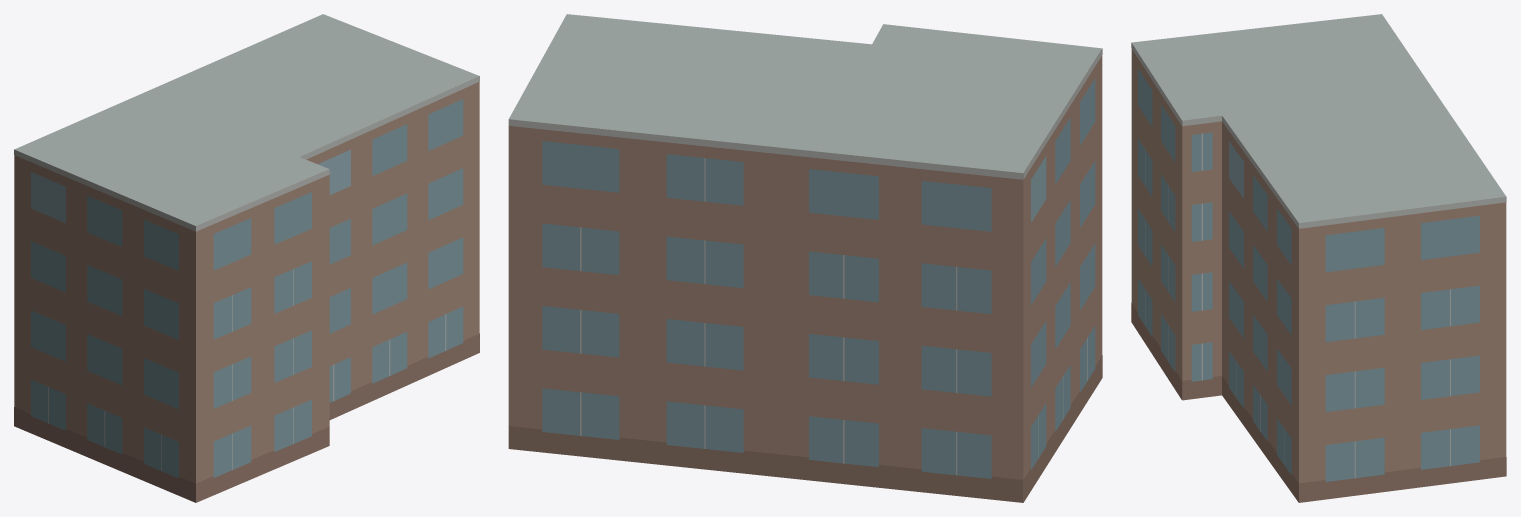
The model's file is residential-3de44866-7b6f-495c-ad16-a76b53666772.glb.
The picture shows the model from 3 angles, left to right: view 1: azimuth 30°, elevation 25°; view 2: azimuth 150°, elevation 25°; view 3: azimuth 270°, elevation 25°; orthographic projection. The views are drawn at different scales.
Parts seen in each view (by area): view 1: residential-3de44866-7b6f-495c-ad16-a76b53666772.tmp; view 2: residential-3de44866-7b6f-495c-ad16-a76b53666772.tmp; view 3: residential-3de44866-7b6f-495c-ad16-a76b53666772.tmp.
Boxes of the visible parts, box(x1,y1,x2,y2) form: residential-3de44866-7b6f-495c-ad16-a76b53666772.tmp: box(14, 14, 479, 502); residential-3de44866-7b6f-495c-ad16-a76b53666772.tmp: box(508, 14, 1102, 502); residential-3de44866-7b6f-495c-ad16-a76b53666772.tmp: box(1131, 14, 1506, 502).
Bounding box in the file's own units: 19.59 × 12.2 × 14.84.
